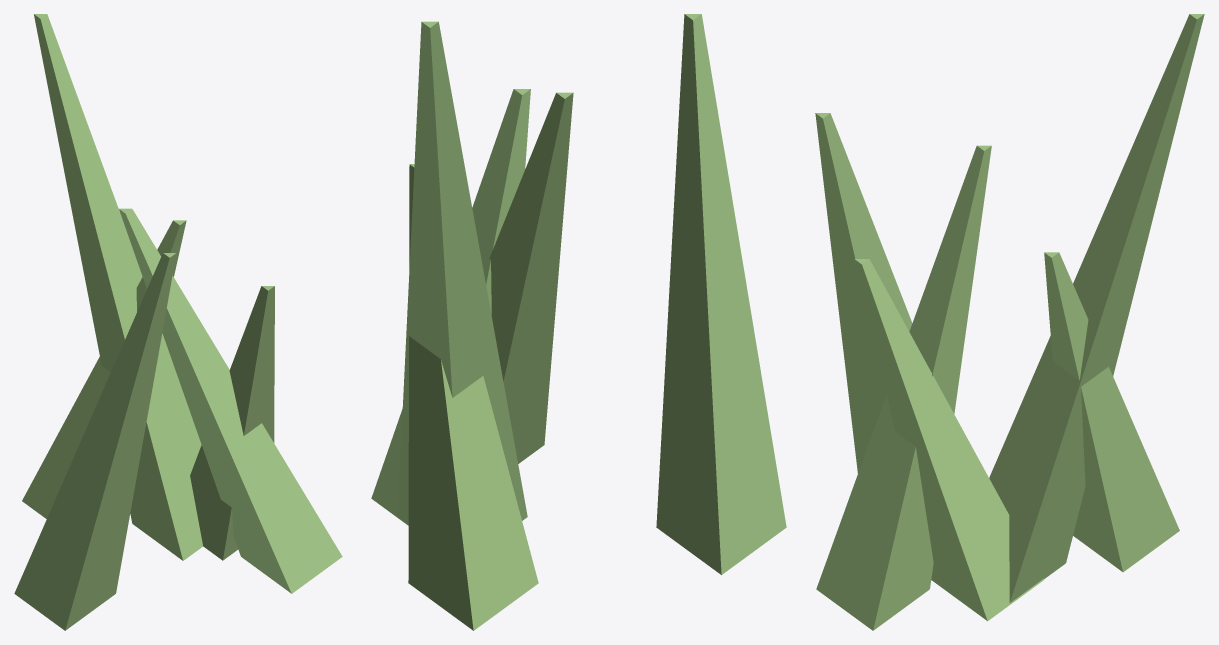
The model's file is grass_tuft_2.glb.
3 views of the same model, side by side, from view 1: azimuth 30°, elevation 25°; view 2: azimuth 150°, elevation 25°; view 3: azimuth 270°, elevation 25° (orthographic). The views are drawn at different scales.
Visible parts, largest first — view 1: grass_tuft_2; view 2: grass_tuft_2; view 3: grass_tuft_2.
Part boxes in pixels (x1=…): grass_tuft_2: x1=14, y1=14, x2=342, y2=630; grass_tuft_2: x1=371, y1=14, x2=786, y2=630; grass_tuft_2: x1=815, y1=14, x2=1204, y2=630.
Size of the model in its own units: 0.2514 by 0.4001 by 0.2667.
